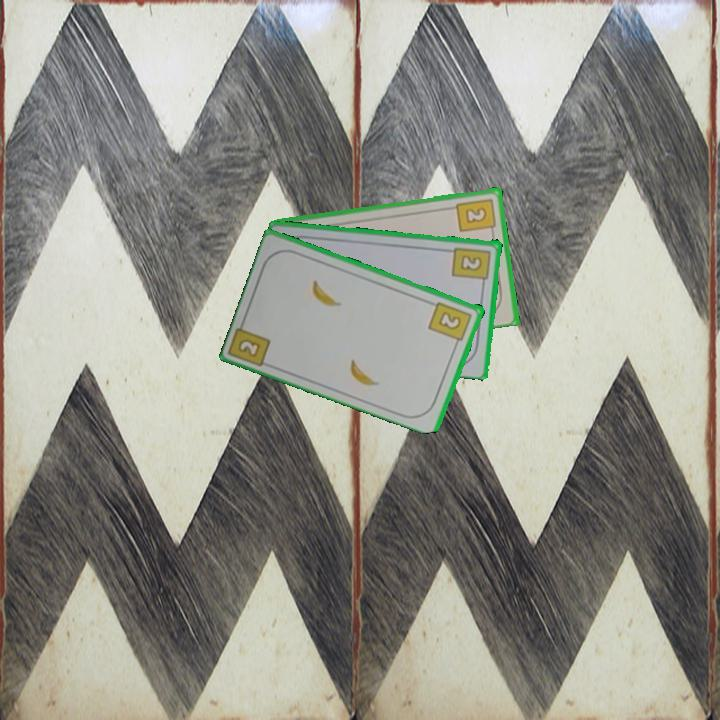2b: (426, 298, 475, 349), (450, 243, 494, 288), (454, 195, 499, 237), (235, 335, 264, 360)
